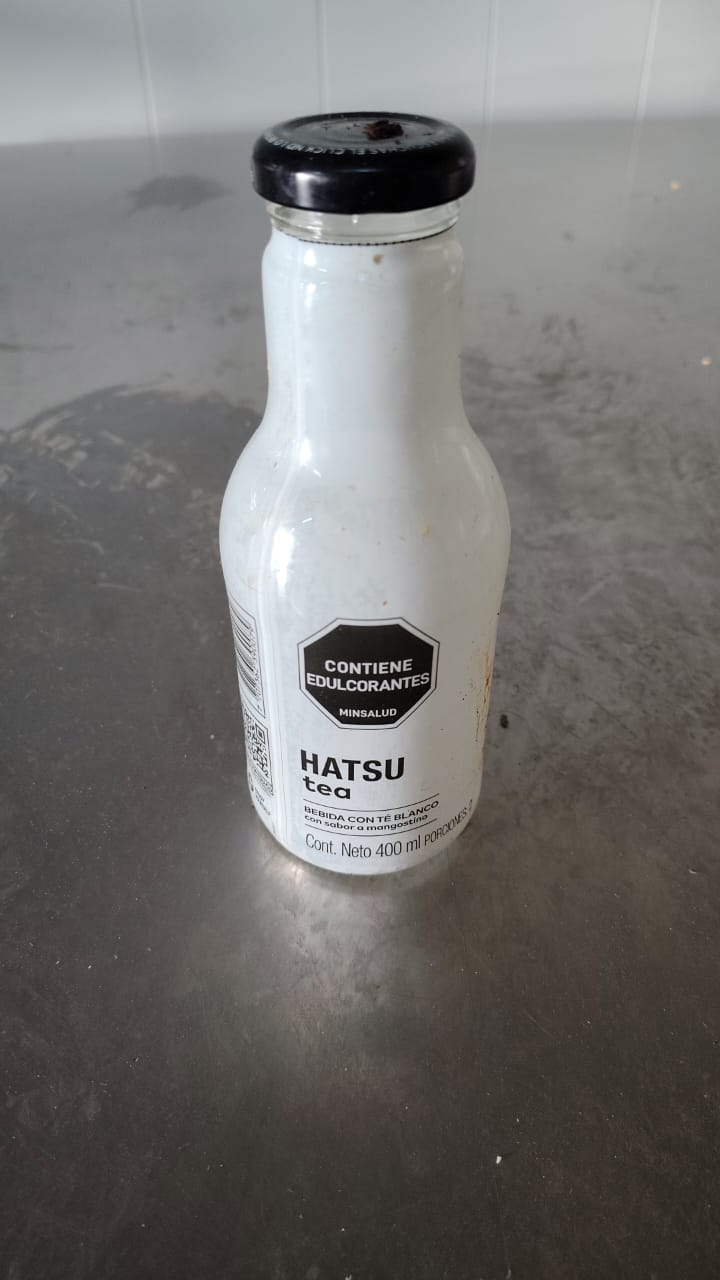Metal: (246, 111, 477, 209)
Vidrio: (220, 214, 512, 877)
